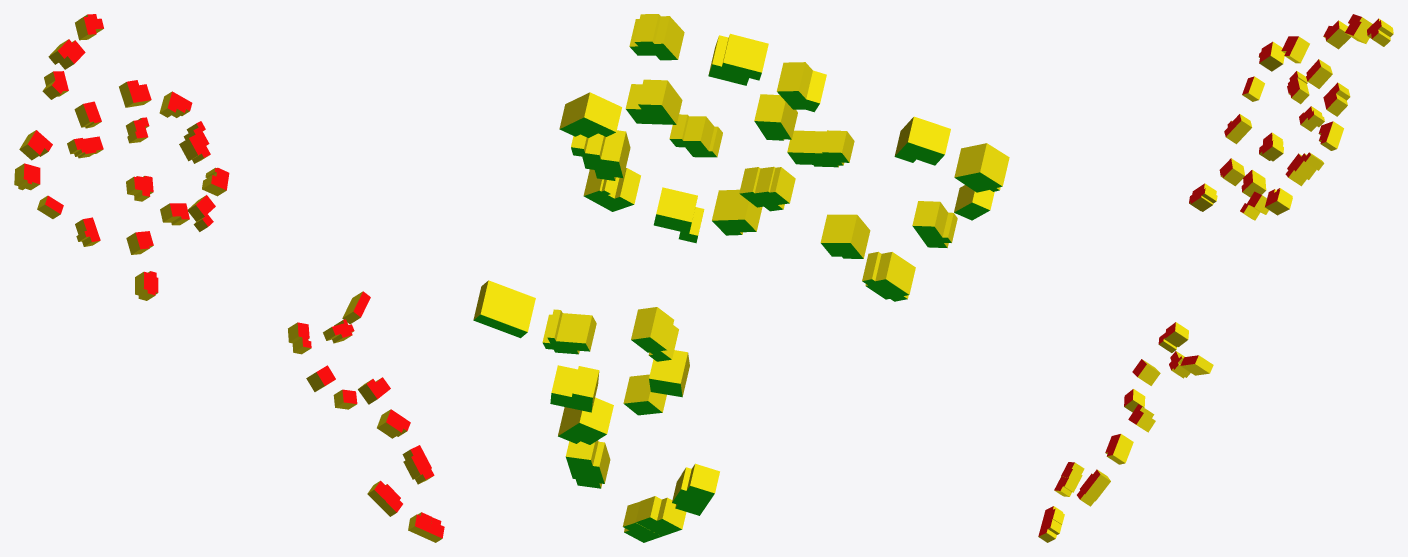
The picture shows the model from 3 angles, left to right: view 1: azimuth 30°, elevation 25°; view 2: azimuth 150°, elevation 25°; view 3: azimuth 270°, elevation 25°; orthographic projection. The views are drawn at different scales.
Parts seen in each view (by area): view 1: mesh; view 2: mesh; view 3: mesh.
Boxes of the visible parts, x1=… form: mesh: x1=14, y1=14, x2=444, y2=542; mesh: x1=473, y1=14, x2=1009, y2=542; mesh: x1=1038, y1=14, x2=1393, y2=542.
Bounding box in the file's own units: 364 × 484 × 356.
